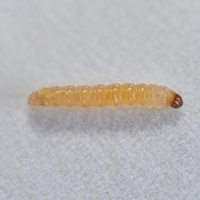insect: (28, 83, 182, 108)
